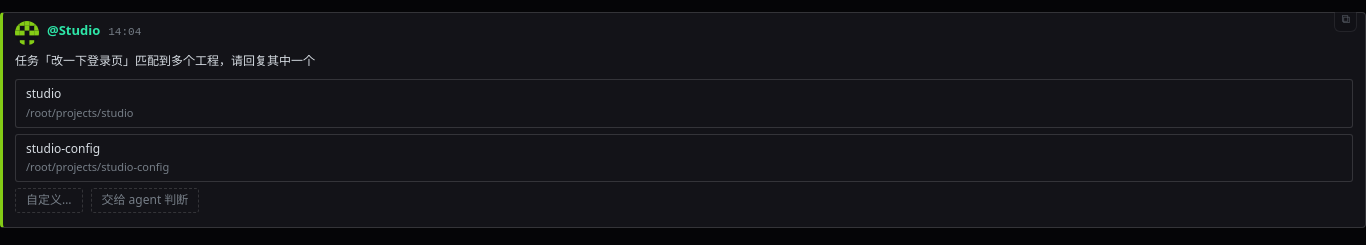
Scenario: ChannelMessageItem — #267 NEED_INPUT 结构化选项卡（meta.options[]） › #276 选项卡发送成功 -> 收起为已回复提示
Click the text "studio" at [44, 95], box left=26, top=86, right=61, bottom=103
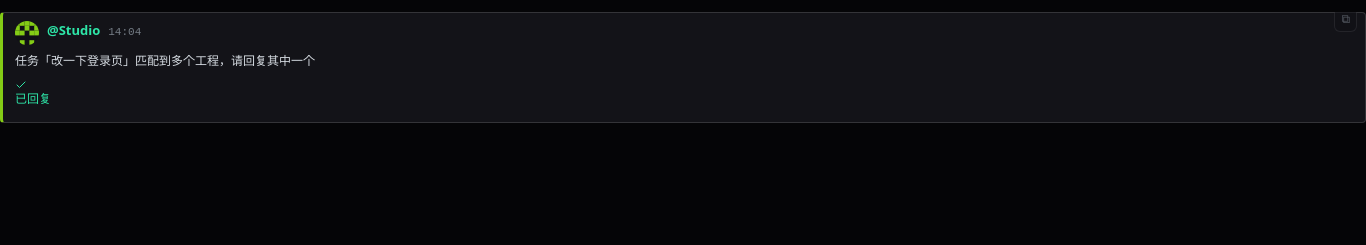
Expected: the text "已回复" is shown, left=15, top=79, right=51, bottom=107
Expected: the option "studio-config" is gone
